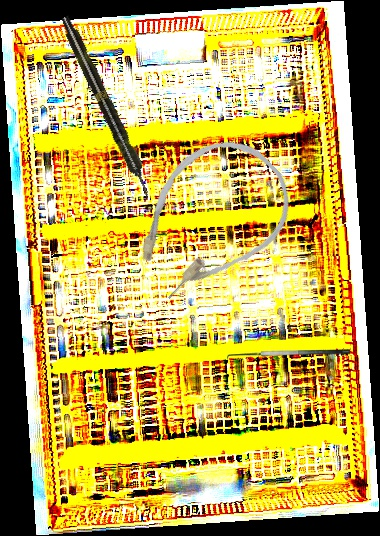Cannula: (106, 117, 311, 322)
Handpiece: (56, 13, 157, 202)
Spatula Surgical: (227, 348, 350, 365)
